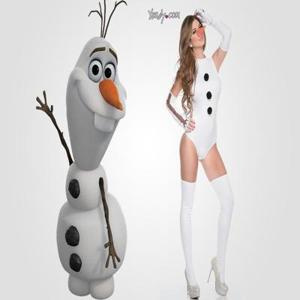olaf: (40, 2, 133, 296)
